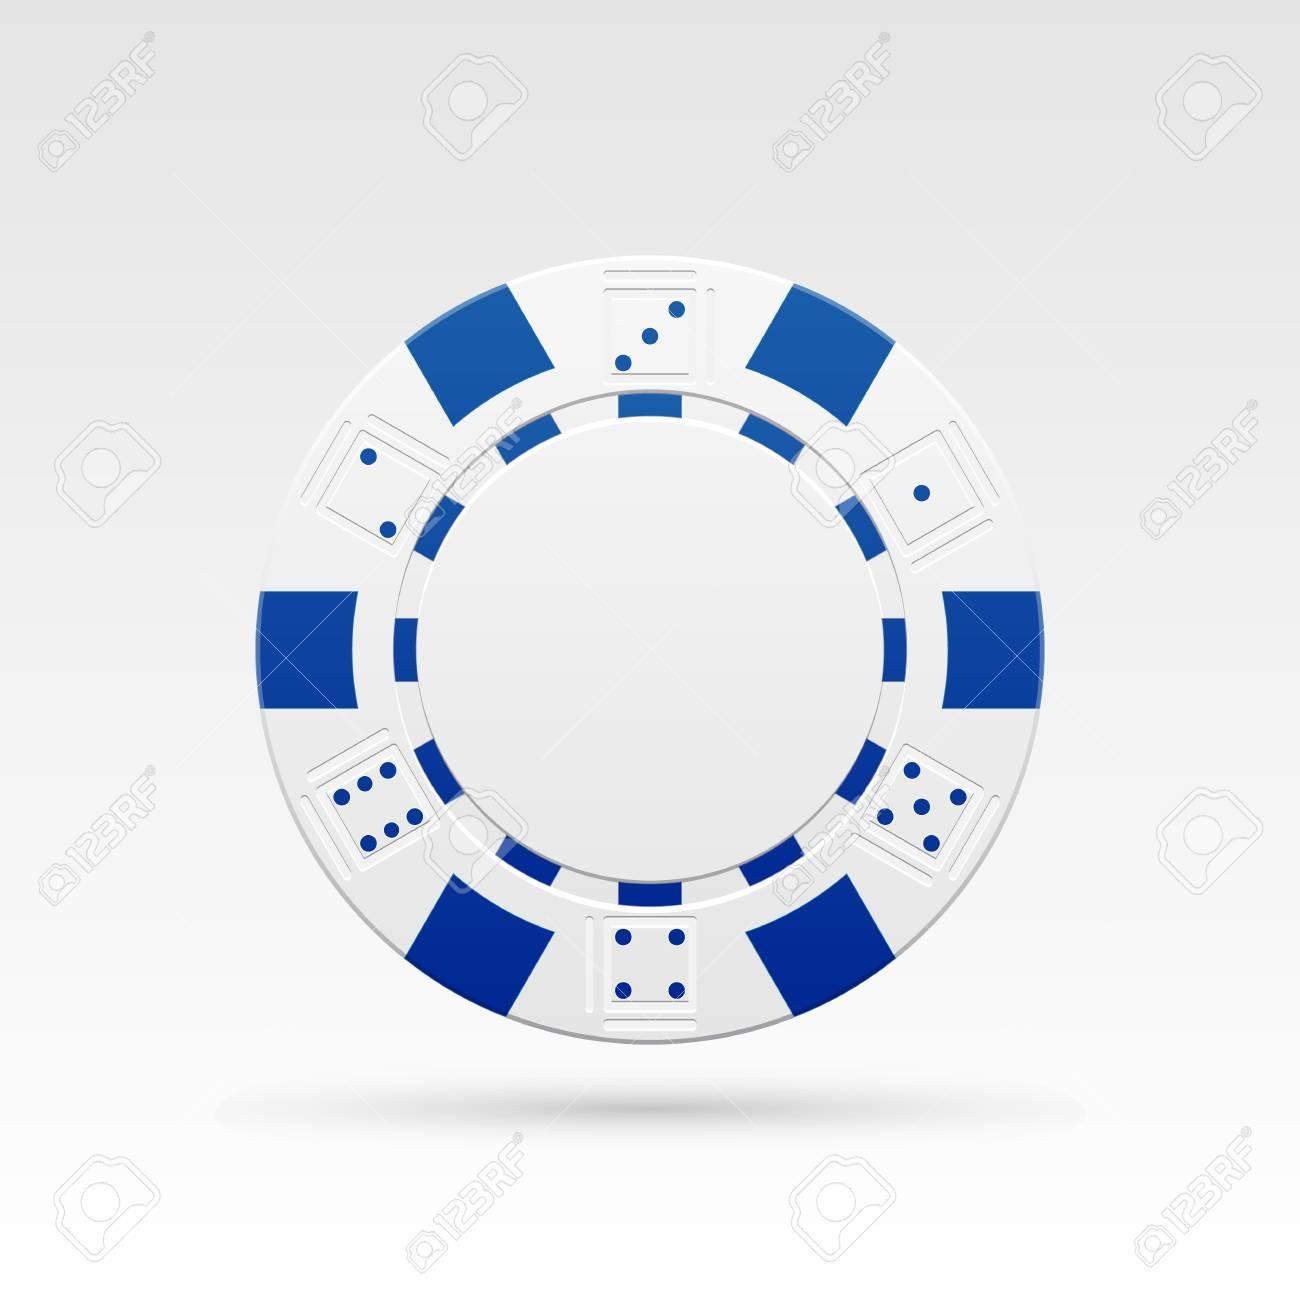chip-white: (256, 256, 1044, 1040)
